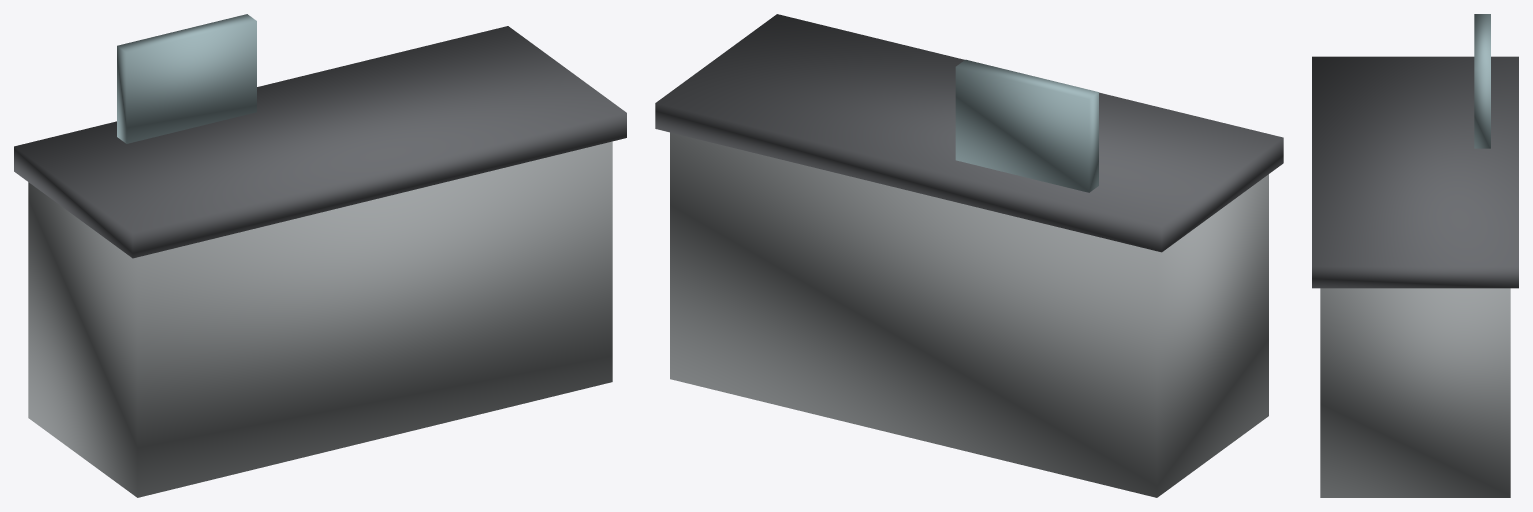
The model's file is police_booking_desk__compact.glb.
3 renders of one model, left to right at view 1: azimuth 30°, elevation 25°; view 2: azimuth 150°, elevation 25°; view 3: azimuth 270°, elevation 25°, orthographic. The views are drawn at different scales.
Parts seen in each view (by area): view 1: world; view 2: world; view 3: world.
Part boxes in pixels (x1=…): world: x1=14, y1=14, x2=626, y2=497; world: x1=655, y1=14, x2=1283, y2=497; world: x1=1312, y1=14, x2=1518, y2=497.
Bounding box in the file's own units: 1.53 × 1.07 × 0.6364.
